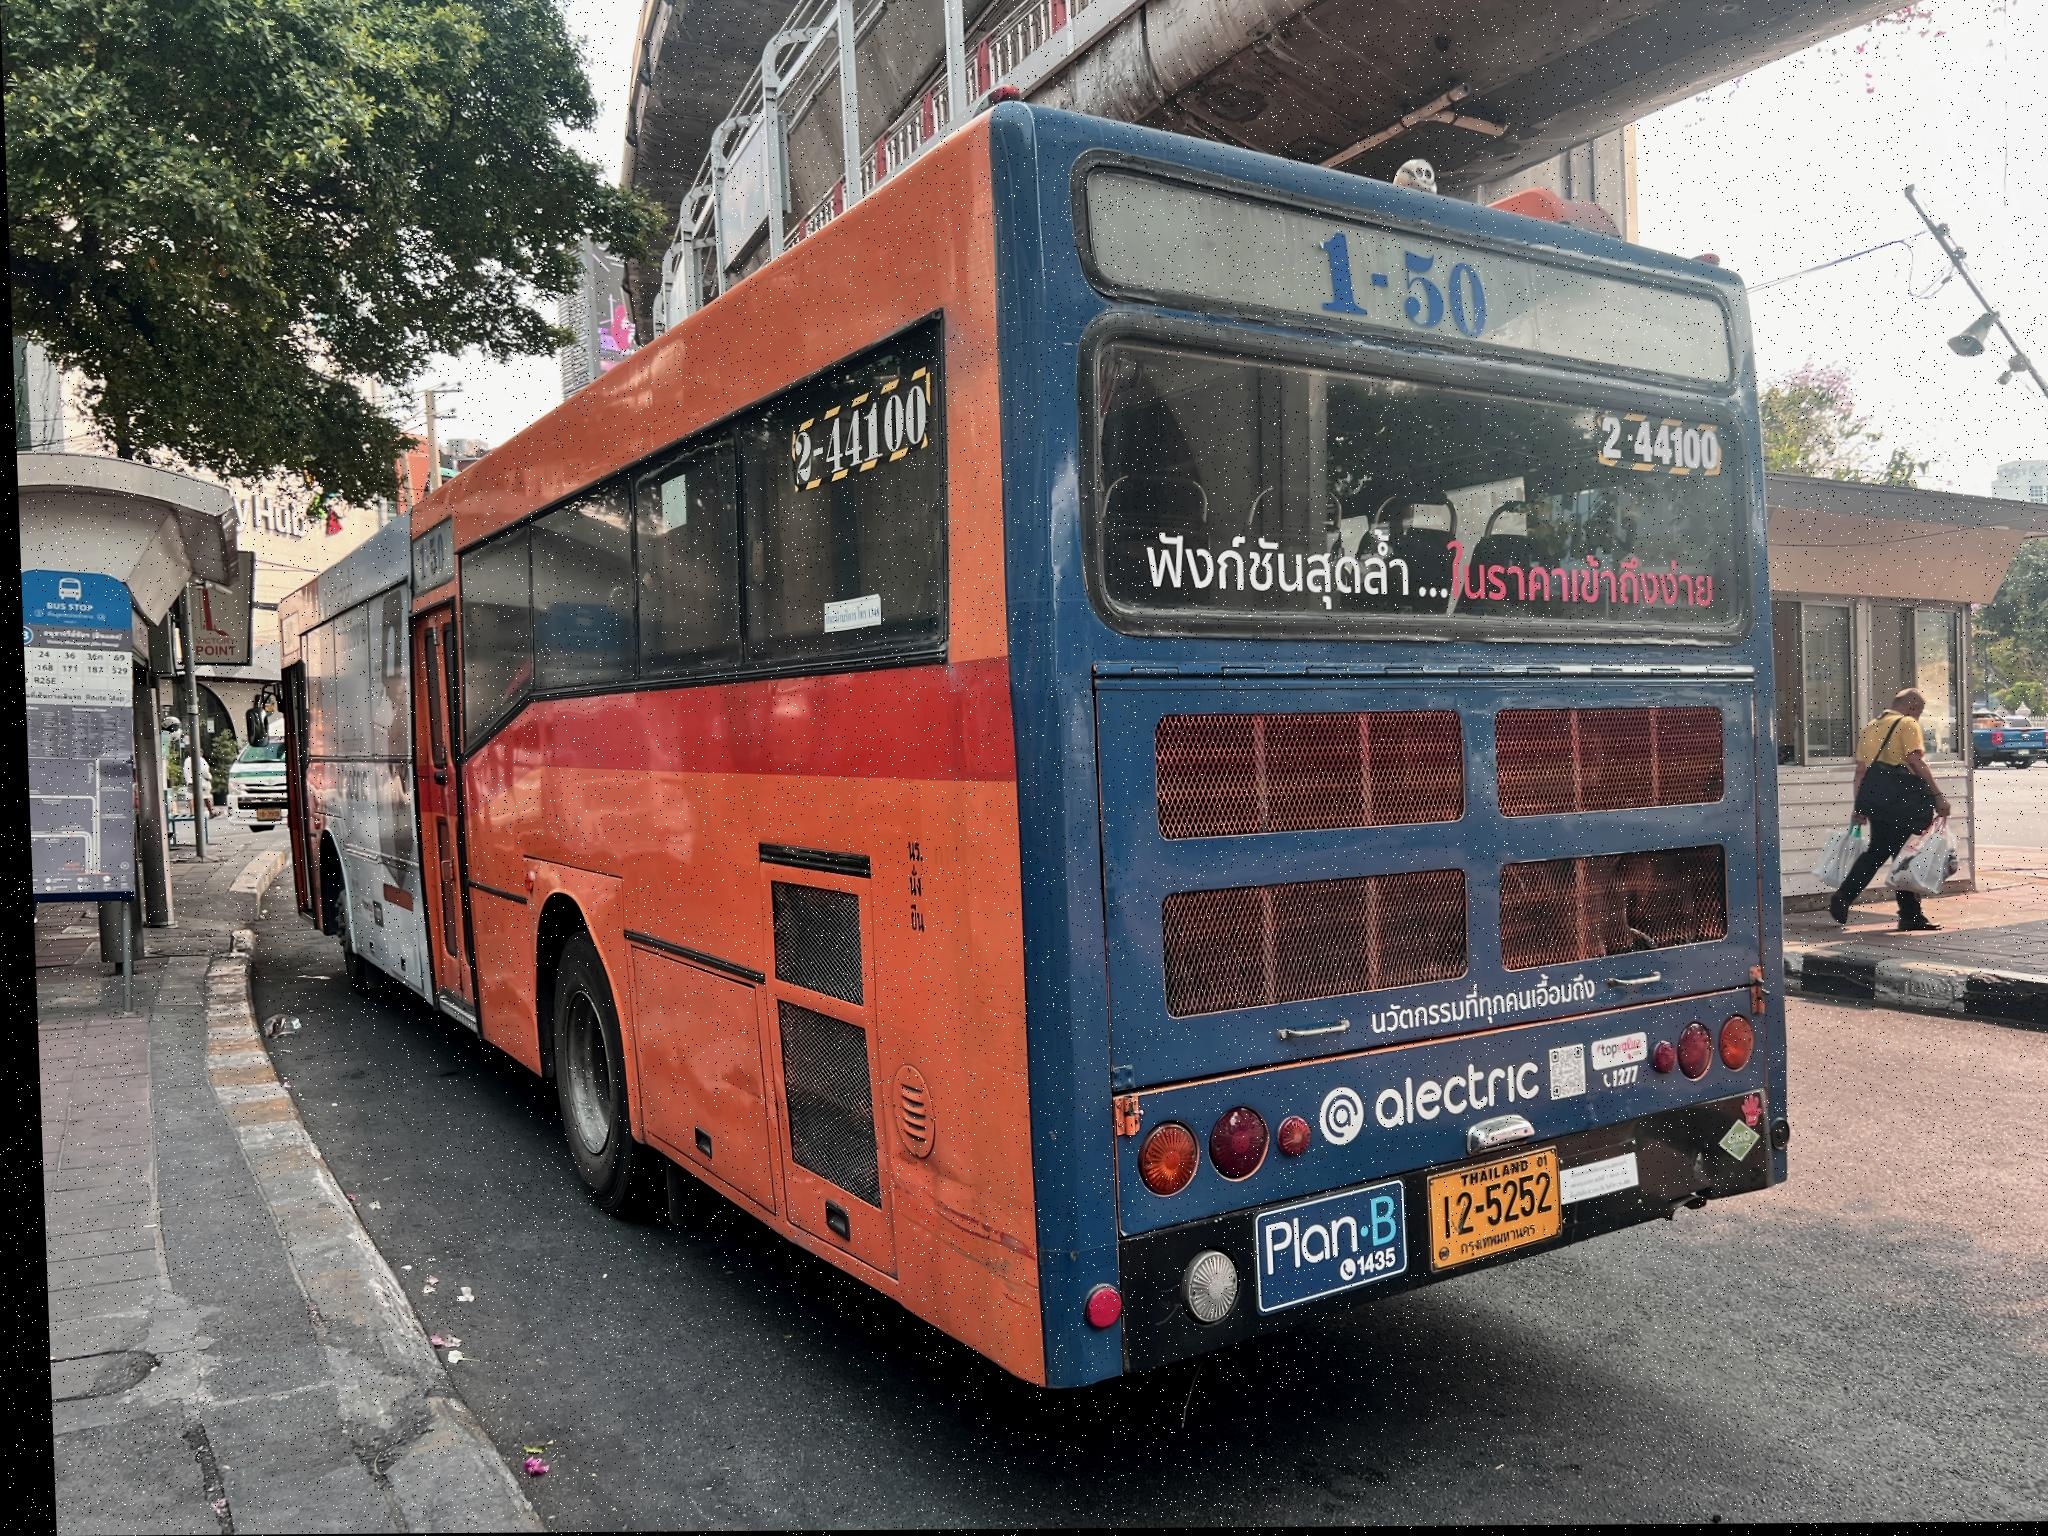BMTA-bus: (274, 106, 1785, 1404)
Bus Line Number: (1292, 211, 1505, 349)
Bus Side Number: (780, 368, 937, 502), (1584, 407, 1734, 490)
